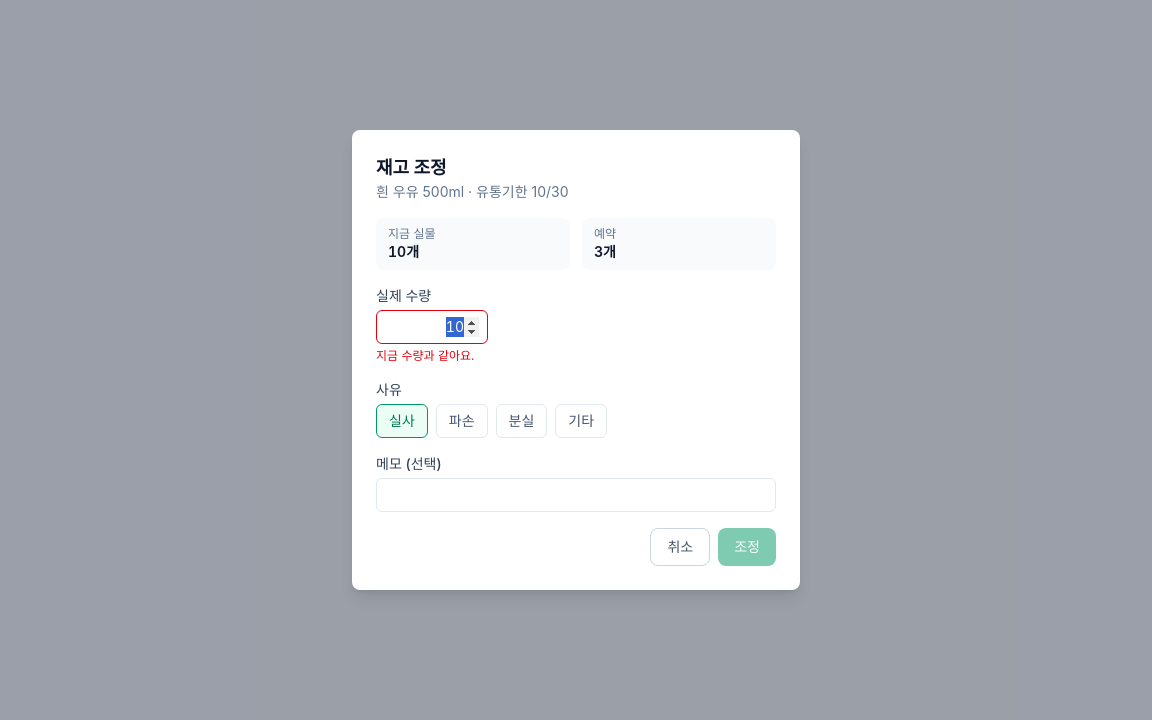
Test: 재고 조정 모달 (S-14) › 예약보다 적게 넣으면 안내하고 보내지 않는다
Replace the text in the number field labelled "실제 수량" with "2" at coordinates (432, 327), box [376,310,488,344]
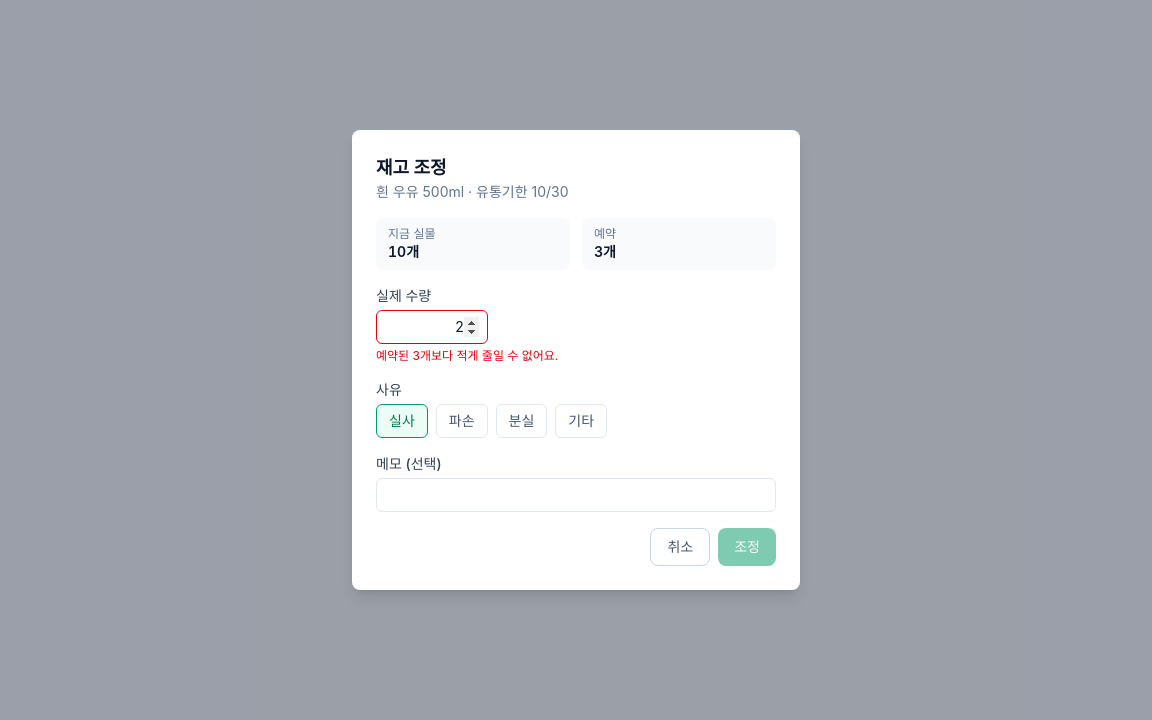
Check: the button "조정" is disabled, box [718,528,776,566]
Check: the text "예약된 3개보다 적게 줄일 수 없어요." is shown, box [376,348,558,363]
